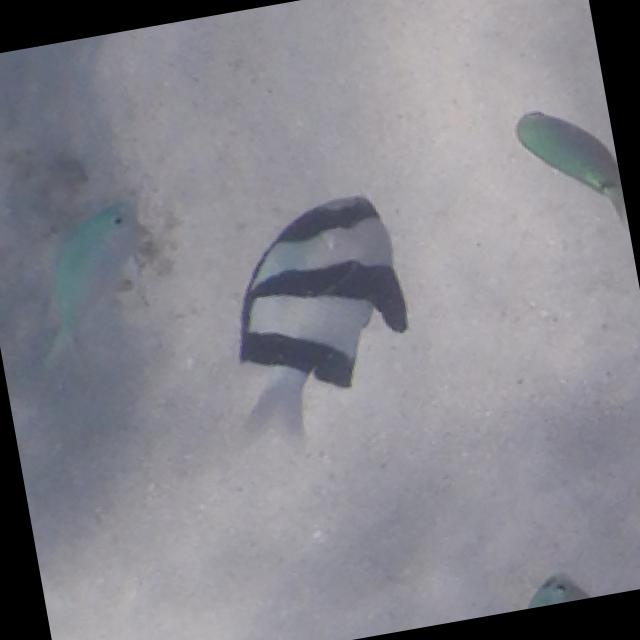ThreeStripedDamselfish: (186, 184, 437, 453)
